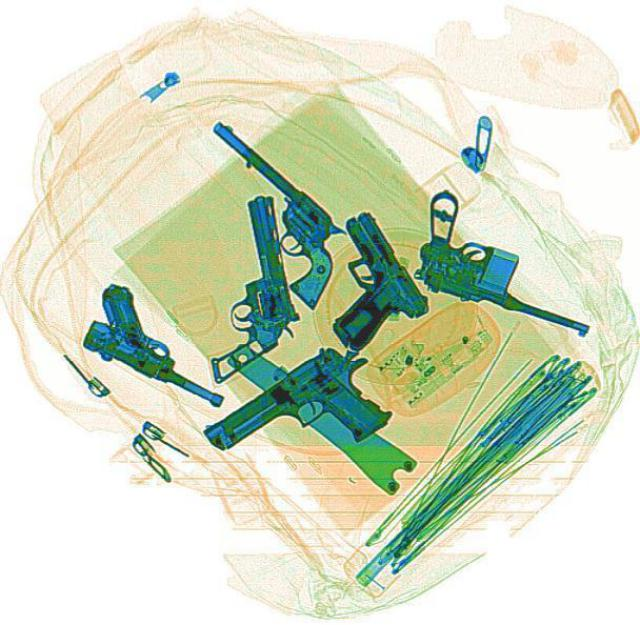Gun: (156, 116, 374, 308), (195, 329, 407, 504), (399, 184, 621, 335), (68, 276, 254, 413), (182, 192, 308, 383), (284, 204, 436, 353)
